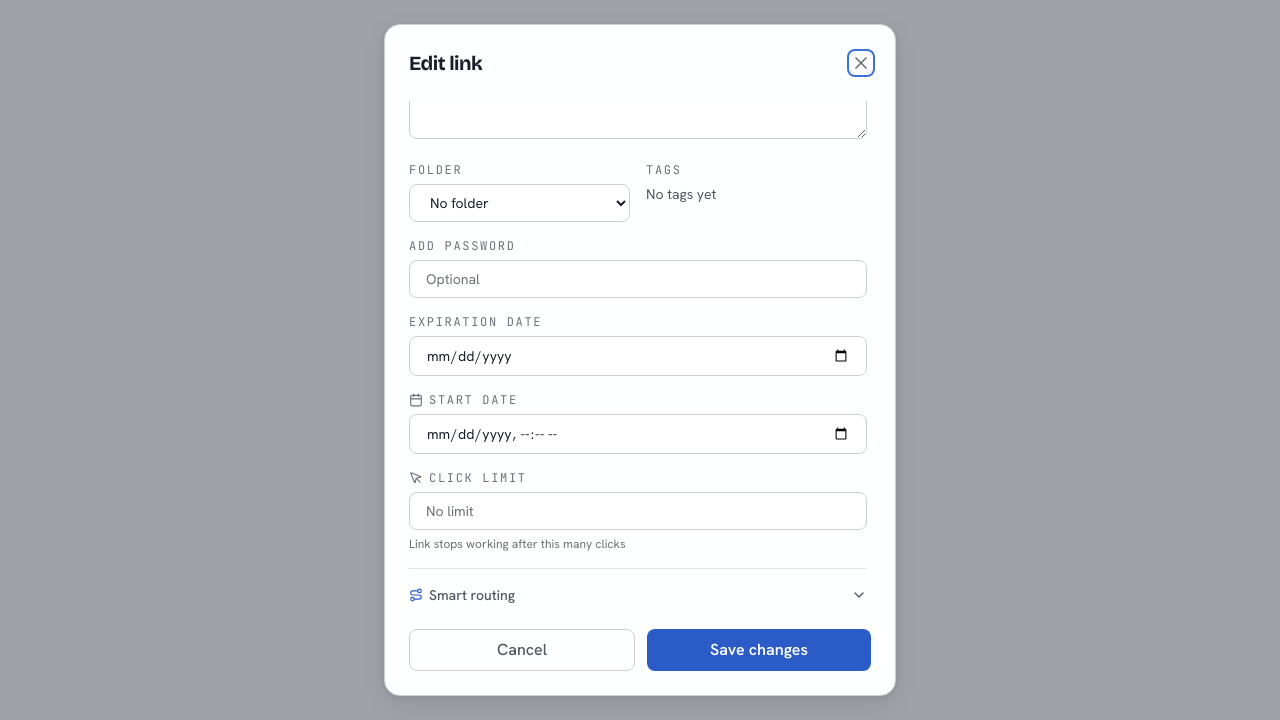
EditModal › keeps the modal open and skips routing when the link save fails
(page scrolled)
Click the button "Smart routing". click: (472,595)
box: [409,585,867,605]
(page scrolled)
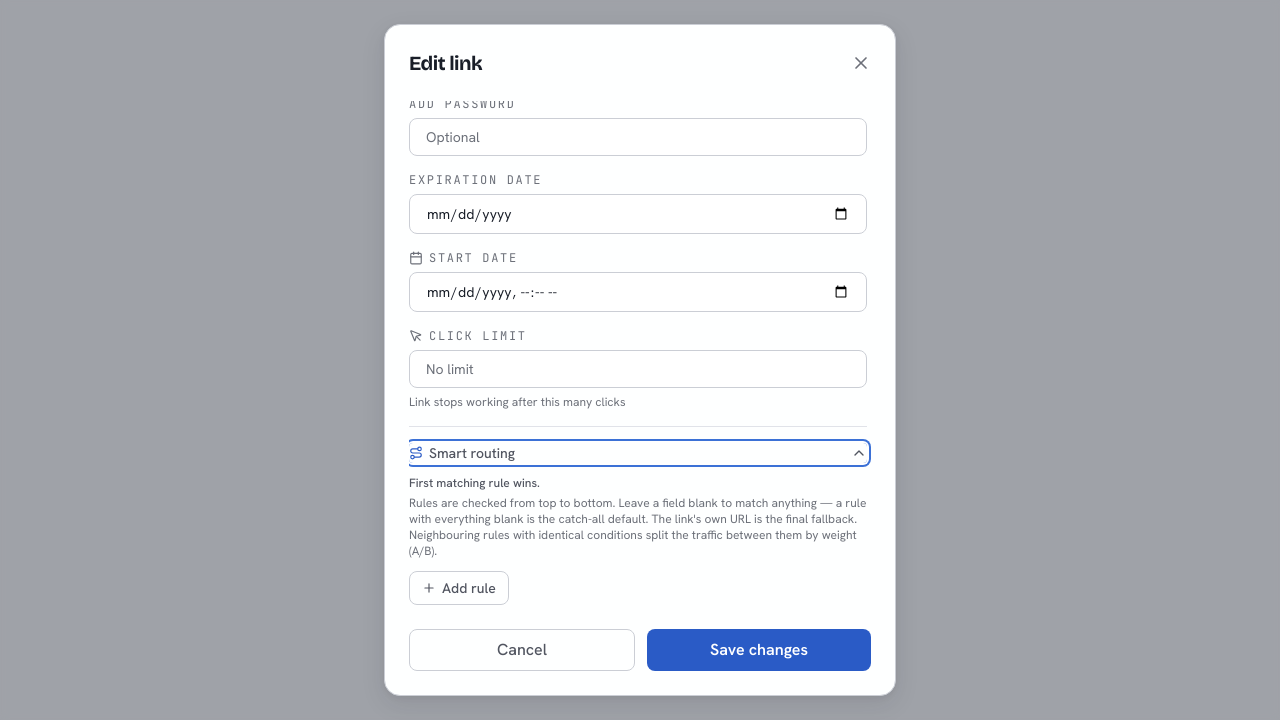
Click the button "Add rule". click: (459,588)
box: [409,571,509,605]
(page scrolled)
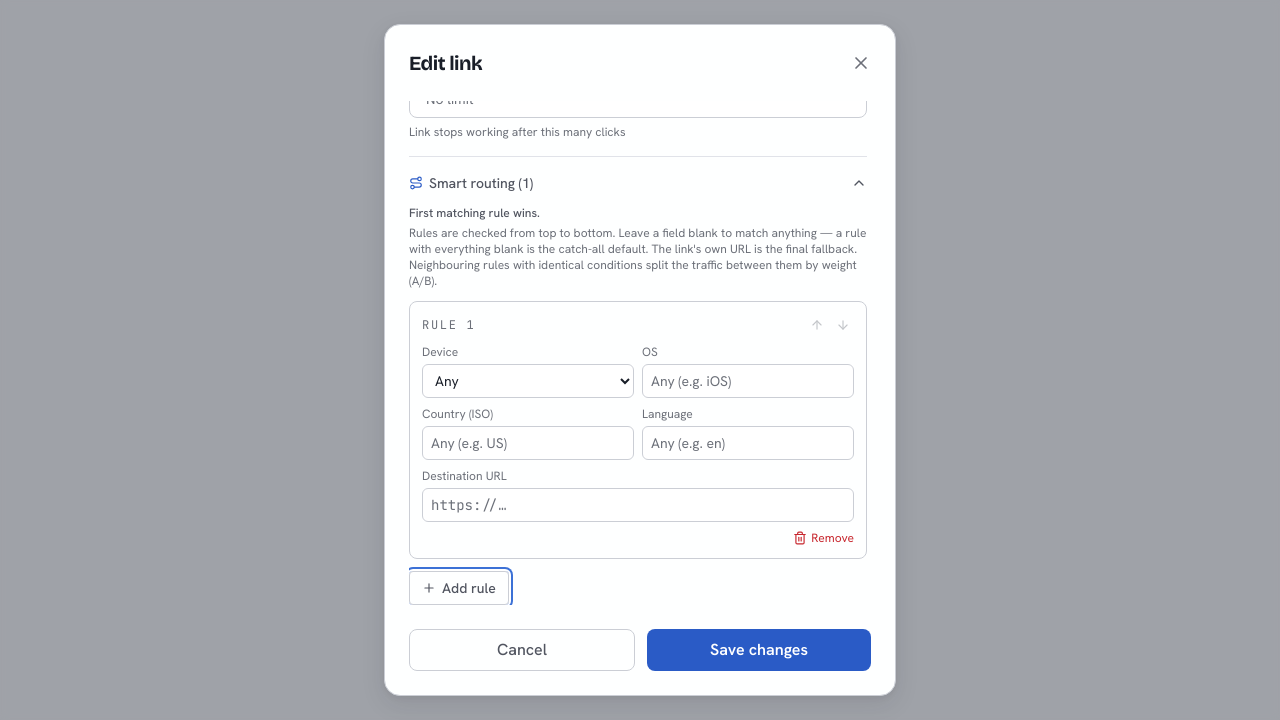
Type "https://routed.example/" into the field with placeholder "https://…". click: (638,505)
box: [422,488,854,522]
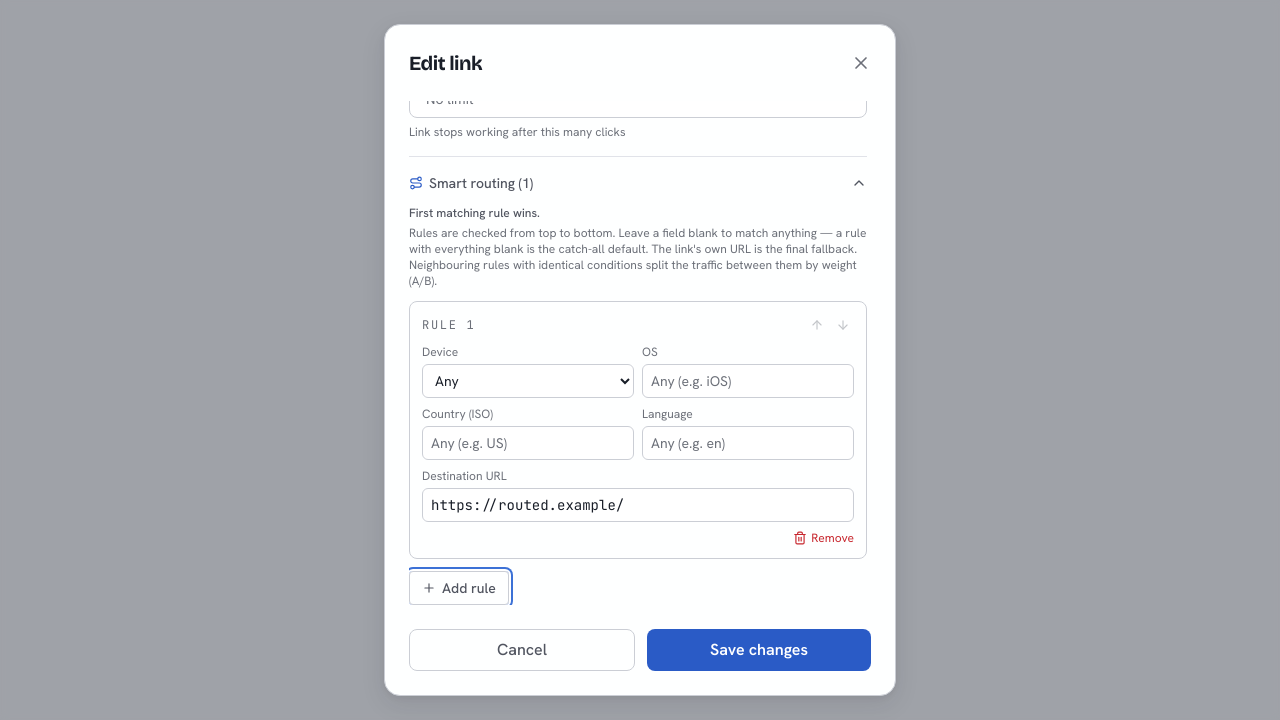
Click the button "Save changes". click: (759,650)
box: [647,629,871,671]
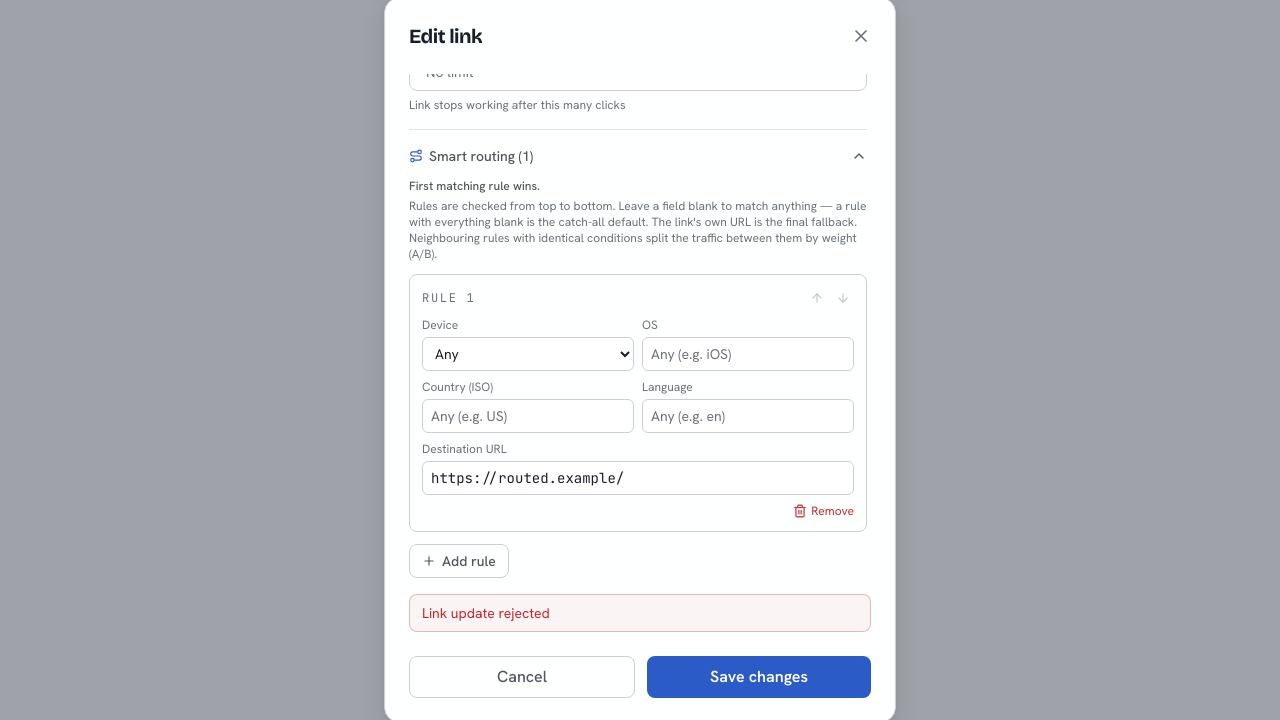
Check: the message reads "Link update rejected", box [422,604,550,622]
